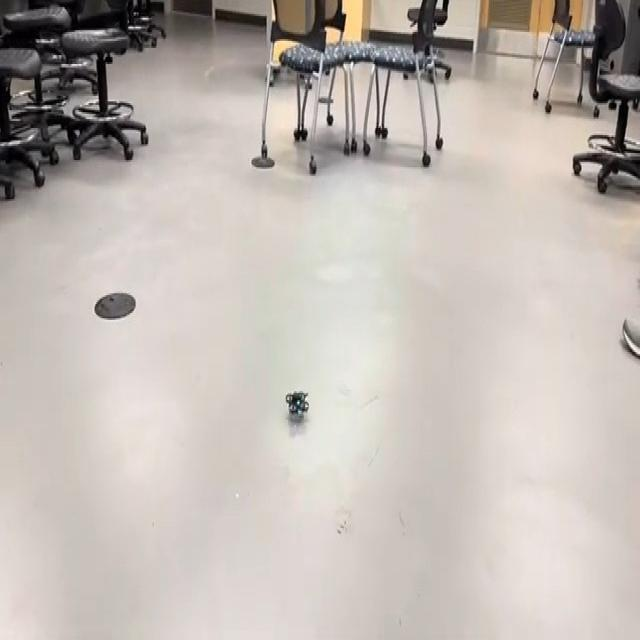drone: (276, 376, 316, 427)
